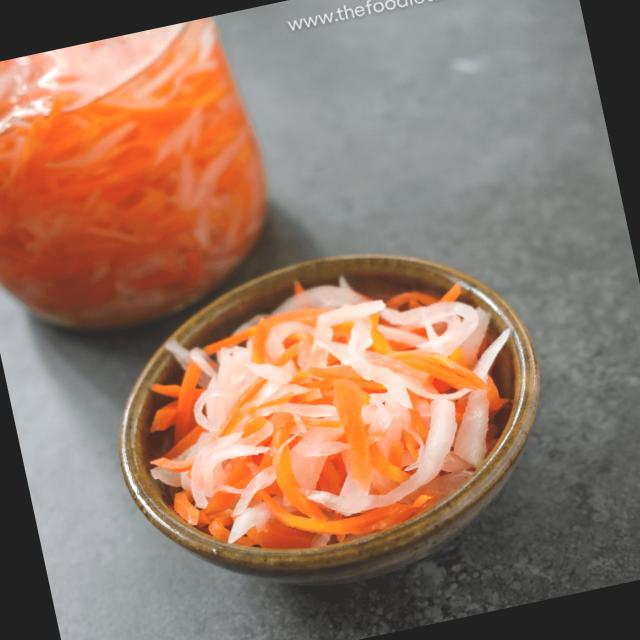do chua: (151, 279, 507, 547)
